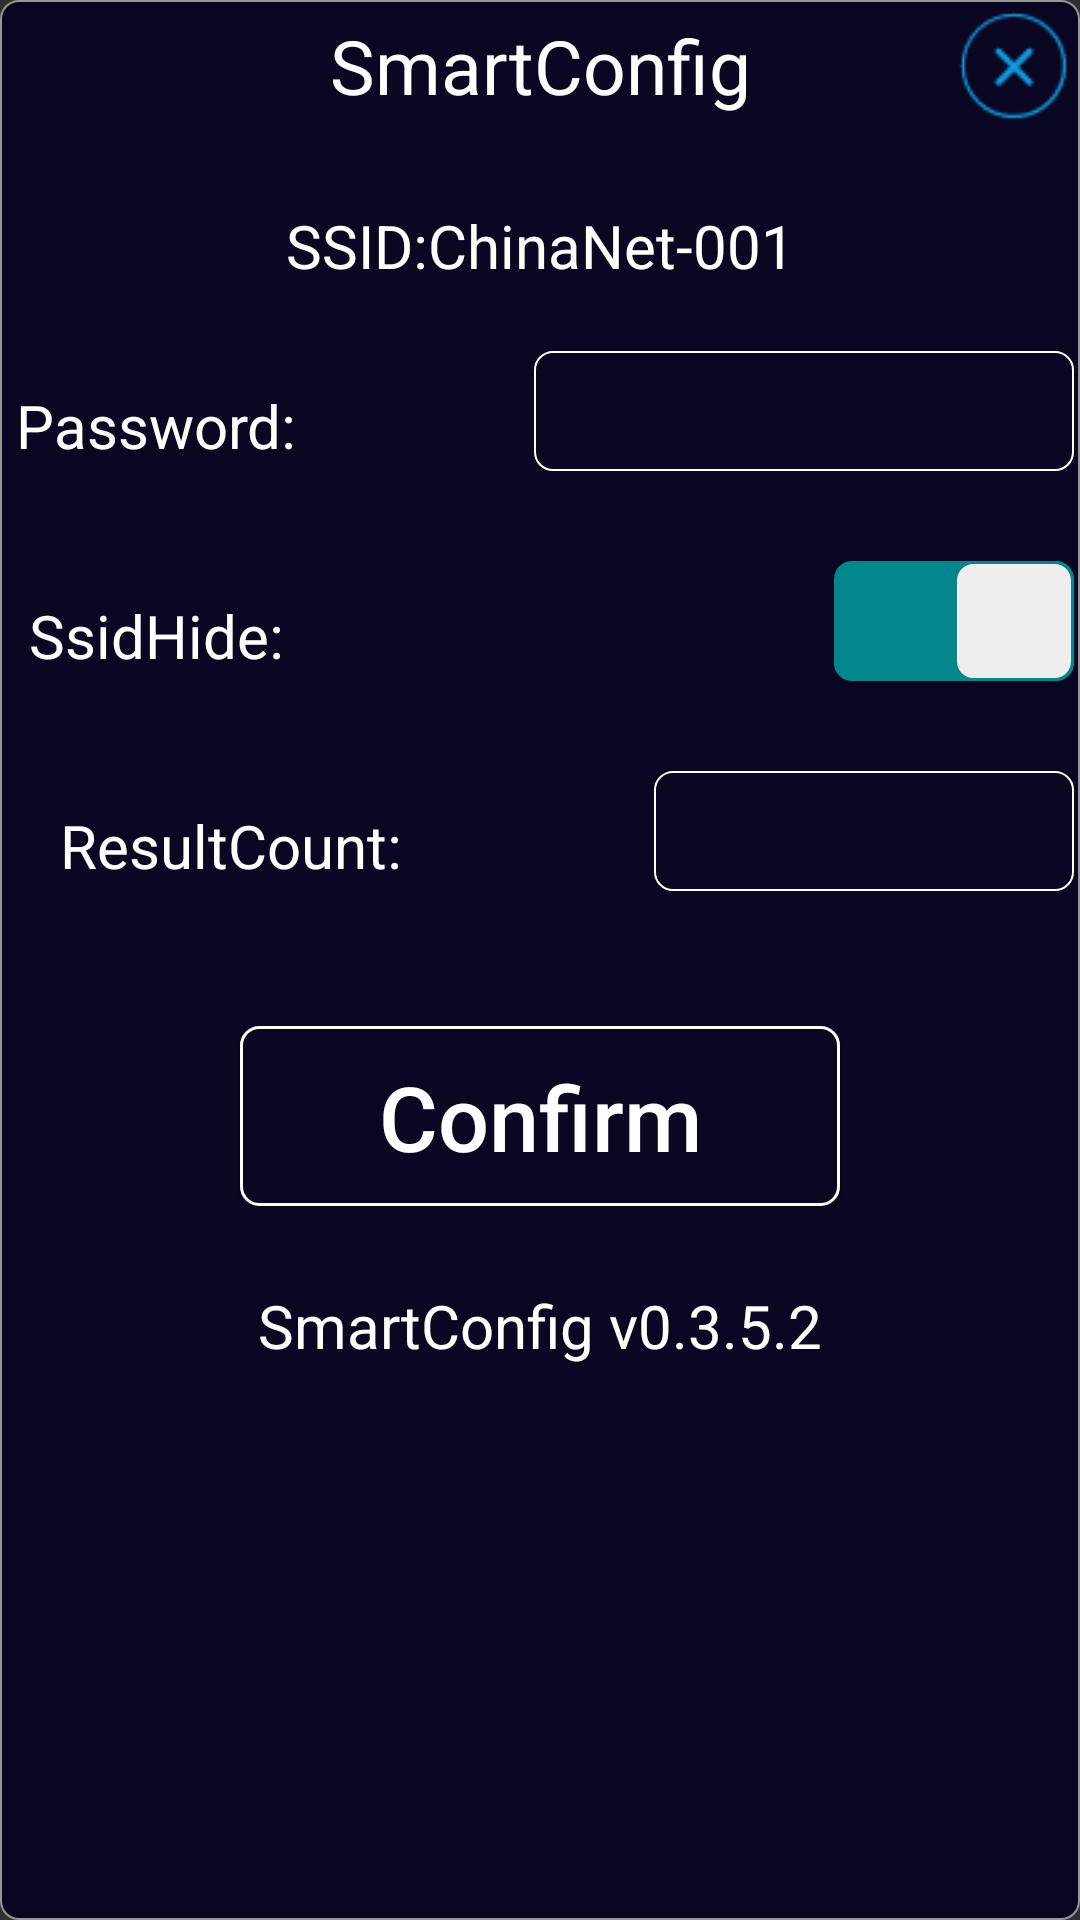

Where icons sit on this 1080px×1920px app screen, as (x1, y1, x2, y2):
close: (960, 12, 1067, 119)
